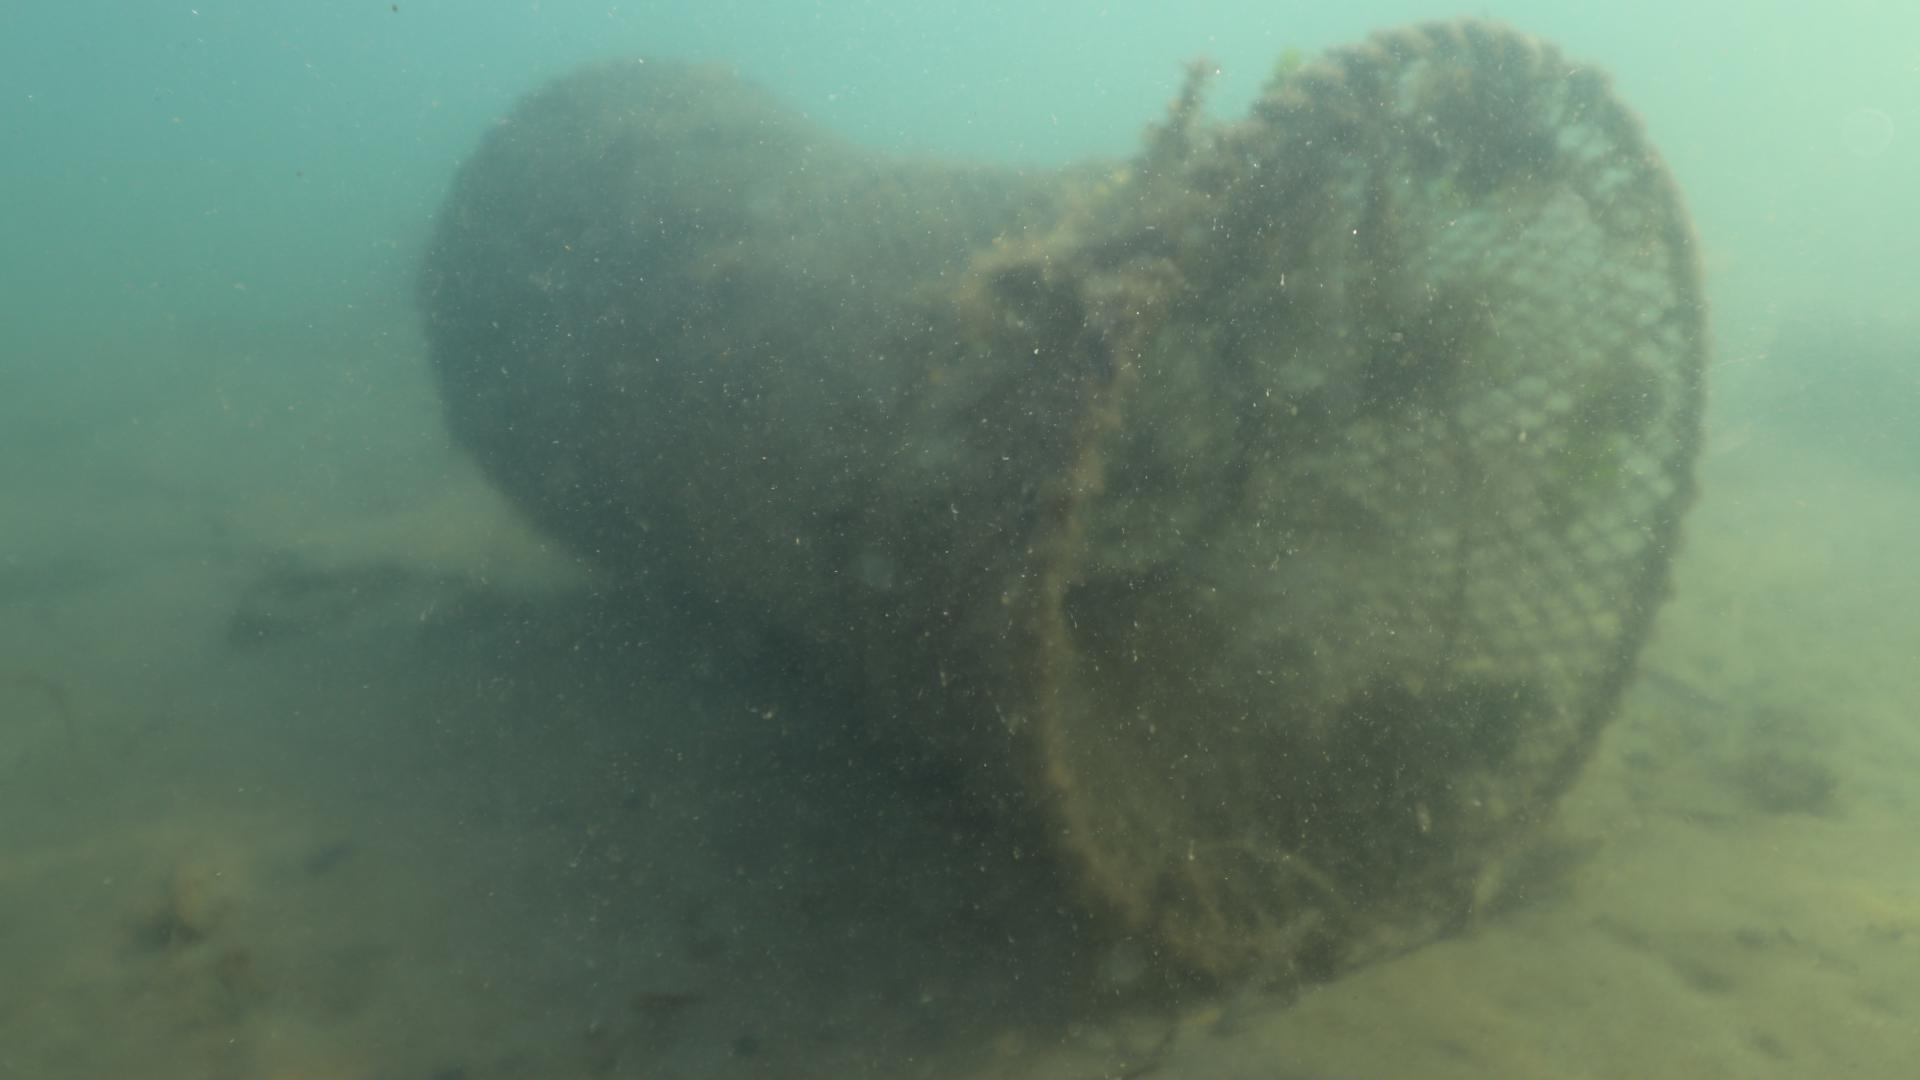spring fish trap: (411, 8, 1712, 1000)
